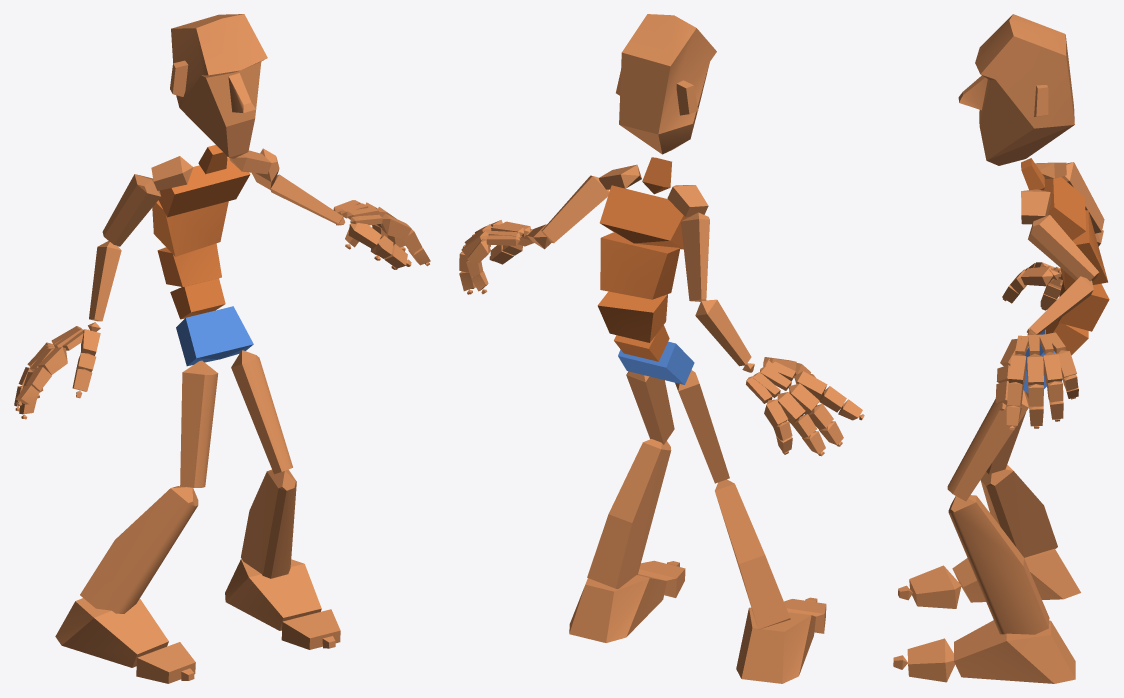
Rendered from prueba161.obj.
The picture shows the model from 3 angles, left to right: view 1: azimuth 30°, elevation 25°; view 2: azimuth 150°, elevation 25°; view 3: azimuth 270°, elevation 25°; orthographic projection. The views are drawn at different scales.
Parts seen in each view (by area): view 1: BOPED_Head, BOPED_R_leg, BOPED_R_foot, BOPED_L_leg, BOPED_R_foot01, BOPED_R_legup, BOPED_L_legup, Bone01, Bone04, Bone05, BOPED_R_arm_upper, Bone03 (+7 smaller); view 2: BOPED_Head, BOPED_L_leg, BOPED_R_foot01, BOPED_R_leg, BOPED_R_foot, Bone04, Bone05, Bone03, BOPED_R_legup, BOPED_L_legup, BOPED_R_arm_upper, BOPED_L_arm_upper (+8 smaller); view 3: BOPED_Head, BOPED_L_leg, BOPED_R_foot01, BOPED_R_leg, BOPED_L_legup, BOPED_R_foot, BOPED_L_arm_upper, Bone05, BOPED_R_foot_toe01, BOPED_R_foot_toe04, BOPED_L_arm_fore, Bone03 (+14 smaller).
Part boxes in pixels (x1=…): BOPED_Head: x1=170, y1=14, x2=267, y2=158; BOPED_R_leg: x1=80, y1=486, x2=198, y2=613; BOPED_R_foot: x1=55, y1=598, x2=168, y2=667; BOPED_L_leg: x1=241, y1=469, x2=296, y2=578; BOPED_R_foot01: x1=225, y1=559, x2=321, y2=630; BOPED_R_legup: x1=180, y1=360, x2=218, y2=487; BOPED_L_legup: x1=231, y1=350, x2=292, y2=474; Bone01: x1=176, y1=306, x2=253, y2=366; Bone04: x1=152, y1=200, x2=228, y2=256; Bone05: x1=158, y1=157, x2=250, y2=217; BOPED_R_arm_upper: x1=102, y1=174, x2=161, y2=246; Bone03: x1=157, y1=243, x2=221, y2=286; BOPED_Head: x1=616, y1=14, x2=716, y2=154; BOPED_L_leg: x1=587, y1=439, x2=671, y2=588; BOPED_R_foot01: x1=569, y1=574, x2=666, y2=642; BOPED_R_leg: x1=715, y1=479, x2=790, y2=629; BOPED_R_foot: x1=736, y1=607, x2=815, y2=683; Bone04: x1=600, y1=232, x2=680, y2=299; Bone05: x1=599, y1=185, x2=689, y2=249; Bone03: x1=597, y1=291, x2=667, y2=342; BOPED_R_legup: x1=675, y1=370, x2=729, y2=483; BOPED_L_legup: x1=626, y1=371, x2=674, y2=444; BOPED_R_arm_upper: x1=681, y1=212, x2=709, y2=301; BOPED_L_arm_upper: x1=541, y1=175, x2=609, y2=243; BOPED_Head: x1=958, y1=14, x2=1074, y2=165; BOPED_L_leg: x1=948, y1=495, x2=1049, y2=634; BOPED_R_foot01: x1=954, y1=620, x2=1075, y2=683; BOPED_R_leg: x1=980, y1=464, x2=1057, y2=557; BOPED_L_legup: x1=947, y1=390, x2=1028, y2=501; BOPED_R_foot: x1=952, y1=548, x2=1080, y2=602; BOPED_L_arm_upper: x1=1028, y1=215, x2=1098, y2=281; Bone05: x1=1043, y1=177, x2=1085, y2=240; BOPED_R_foot_toe01: x1=909, y1=565, x2=961, y2=608; BOPED_R_foot_toe04: x1=907, y1=638, x2=955, y2=682; BOPED_L_arm_fore: x1=1027, y1=276, x2=1093, y2=334; Bone03: x1=1058, y1=281, x2=1109, y2=331.
Size of the model in its own units: 130 by 186 by 58.52.
